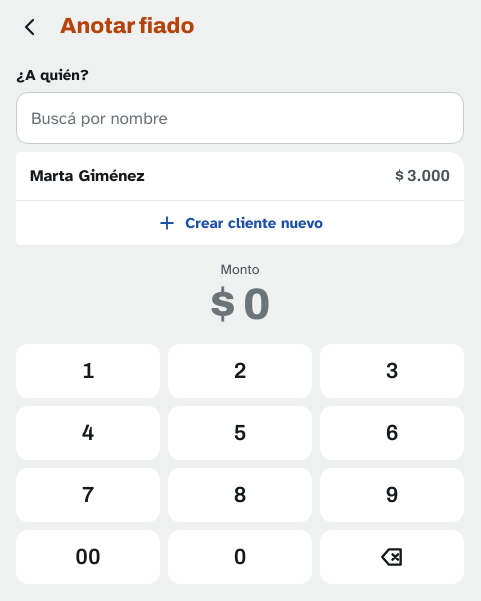
Test case: Anotar fiado › elegir un cliente de la búsqueda y "Cambiar"
Click the button "Marta Giménez $ 3.000": (87, 176) x1=16 y1=152 x2=464 y2=200
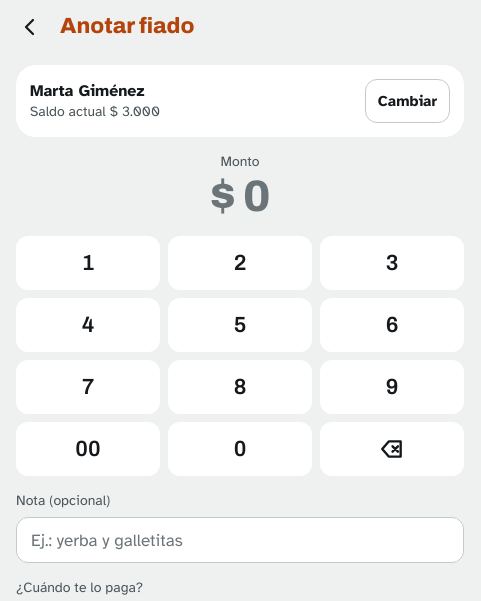
Check: the text "Saldo actual $ 3.000" is shown, box x1=30 y1=103 x2=160 y2=120
Click the button "Cambiar": (407, 101) x1=365 y1=79 x2=450 y2=123
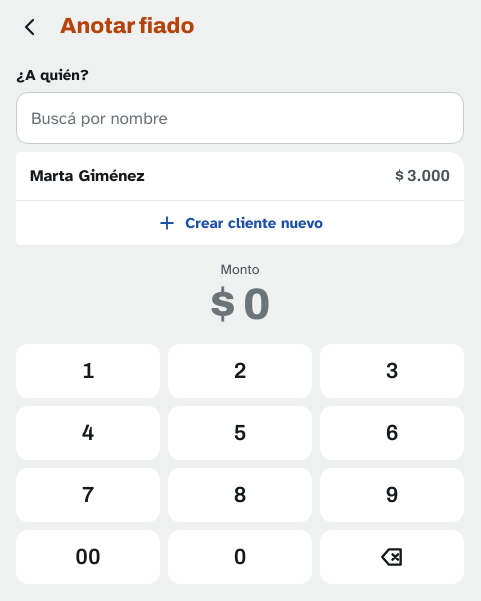
Check: the search field labelled "¿A quién?" is shown, box x1=16 y1=92 x2=464 y2=144
